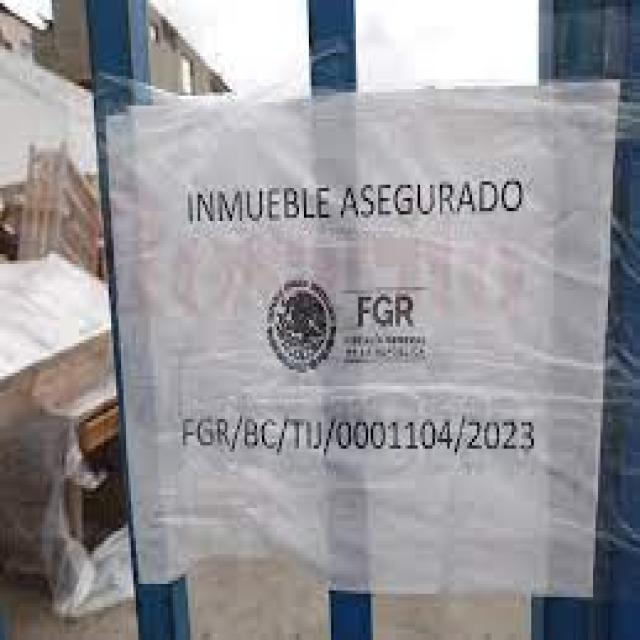stamps: (113, 93, 614, 586)
